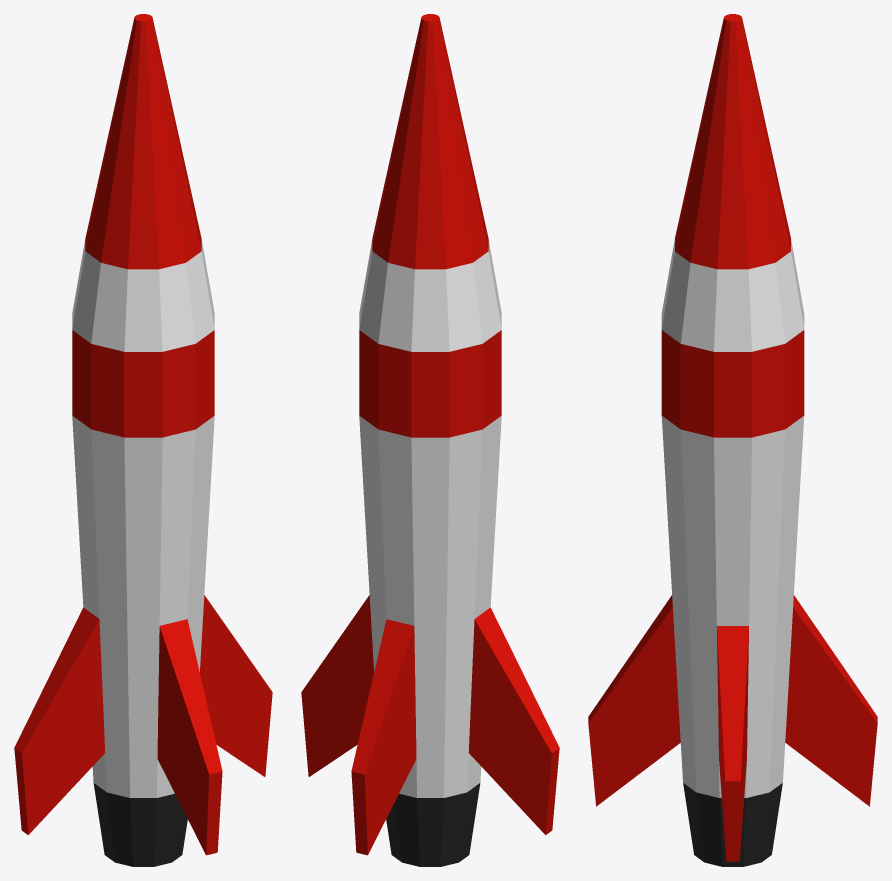
The model's file is RedMissile.fbx.
3 renders of one model, left to right at view 1: azimuth 30°, elevation 25°; view 2: azimuth 150°, elevation 25°; view 3: azimuth 270°, elevation 25°, orthographic.
Parts seen in each view (by area): view 1: RedMissile; view 2: RedMissile; view 3: RedMissile.
Part boxes in pixels (left/top/right/bottom): RedMissile: left=14, top=14, right=272, bottom=866; RedMissile: left=301, top=14, right=559, bottom=866; RedMissile: left=588, top=14, right=877, bottom=866.
Bounding box in the file's own units: 31.37 × 99.61 × 31.37.
Materials: 1 (1 with a texture image).
